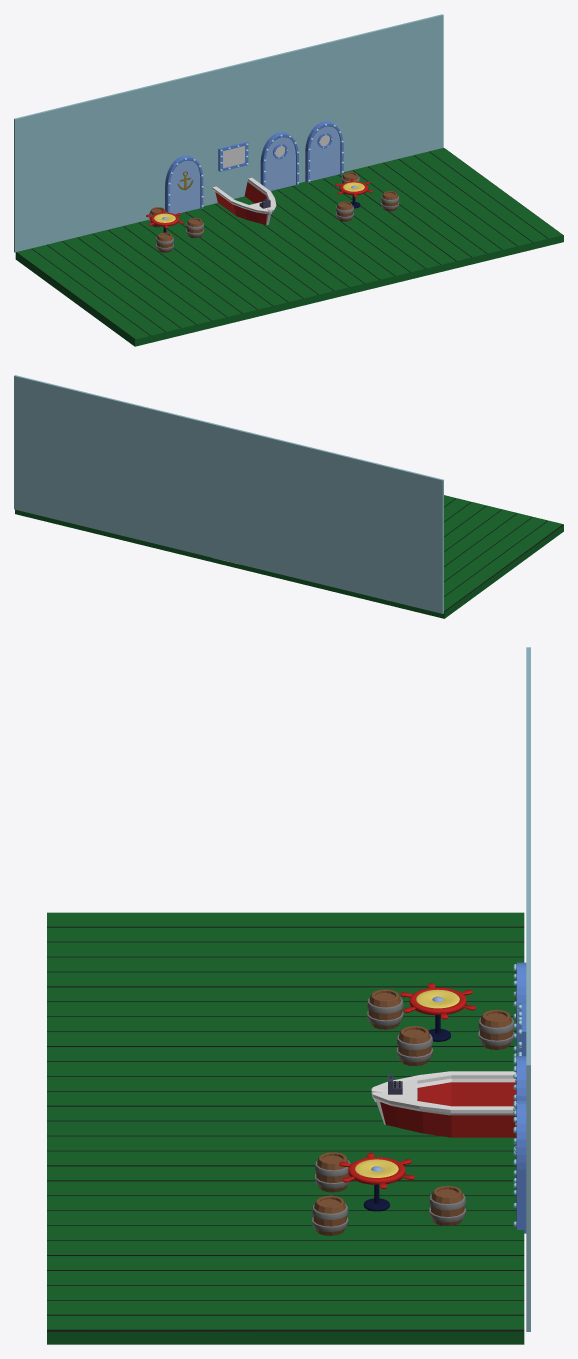
The model's file is hamburgerci.fbx.
The picture shows the model from 3 angles, top to bottom: view 1: azimuth 30°, elevation 25°; view 2: azimuth 150°, elevation 25°; view 3: azimuth 270°, elevation 25°; orthographic projection. The views are drawn at different scales.
Parts seen in each view (by area): view 1: Cube, Cube.065, Cube.055, Cube.017, Cube.059, Cube.063, Cube.067, Cube.053, Cube.061, Cube.029, Cube.057, Cube.015 (+26 smaller); view 2: Cube, Cube.065, Cube.063, Cube.061, Cube.059, Cube.057, Cube.055, Cube.066, Cube.053; view 3: Cube.067, Cube.061, Cube.063, Cube.011, Cube.013, Cube.015, Cube.065, Cube.017, Cube.029, Cube.059, Cube.057, Cube.030 (+49 smaller).
Boxes of the visible parts, bbox=[...] form: Cube: bbox=[14, 14, 443, 252]; Cube.065: bbox=[15, 248, 150, 346]; Cube.055: bbox=[93, 230, 227, 327]; Cube.017: bbox=[399, 155, 533, 253]; Cube.059: bbox=[63, 237, 196, 335]; Cube.063: bbox=[32, 245, 166, 342]; Cube.067: bbox=[430, 148, 563, 245]; Cube.053: bbox=[109, 226, 242, 324]; Cube.061: bbox=[47, 241, 181, 338]; Cube.029: bbox=[415, 151, 548, 249]; Cube.057: bbox=[78, 233, 211, 331]; Cube.015: bbox=[384, 159, 517, 256]; Cube: bbox=[14, 375, 443, 613]; Cube.065: bbox=[428, 520, 563, 618]; Cube.063: bbox=[414, 517, 546, 614]; Cube.061: bbox=[397, 513, 531, 611]; Cube.059: bbox=[382, 509, 516, 607]; Cube.057: bbox=[368, 506, 501, 603]; Cube.055: bbox=[352, 502, 485, 599]; Cube.066: bbox=[444, 520, 563, 611]; Cube.053: bbox=[336, 498, 470, 596]; Cube.067: bbox=[47, 1316, 524, 1344]; Cube.061: bbox=[47, 942, 524, 956]; Cube.063: bbox=[47, 927, 524, 941]; Cube.011: bbox=[47, 1241, 524, 1254]; Cube.013: bbox=[47, 1256, 524, 1269]; Cube.015: bbox=[47, 1271, 524, 1284]; Cube.065: bbox=[47, 913, 524, 926]; Cube.017: bbox=[47, 1286, 524, 1299]; Cube.029: bbox=[47, 1301, 524, 1314]; Cube.059: bbox=[47, 957, 524, 970]; Cube.057: bbox=[47, 972, 516, 985]; Cube.030: bbox=[47, 1136, 516, 1149].
Bounding box in the file's own units: 6735 × 2092 × 3290.
